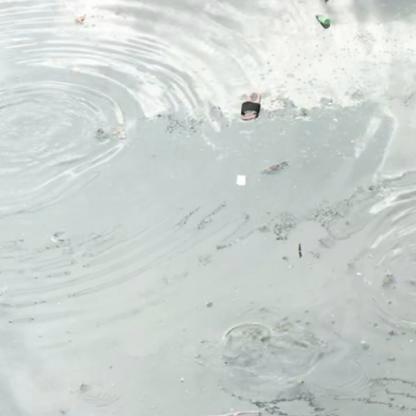Plastic: (315, 10, 333, 29)
Trash: (238, 86, 266, 122), (234, 171, 248, 191)
